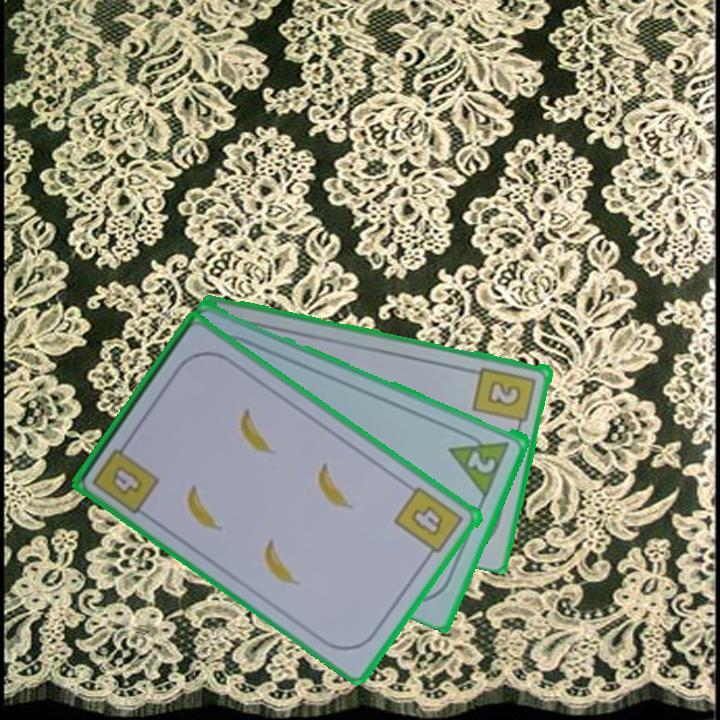2b: (470, 363, 539, 433)
2p: (446, 425, 514, 498)
4b: (391, 483, 468, 563), (108, 461, 146, 499)
